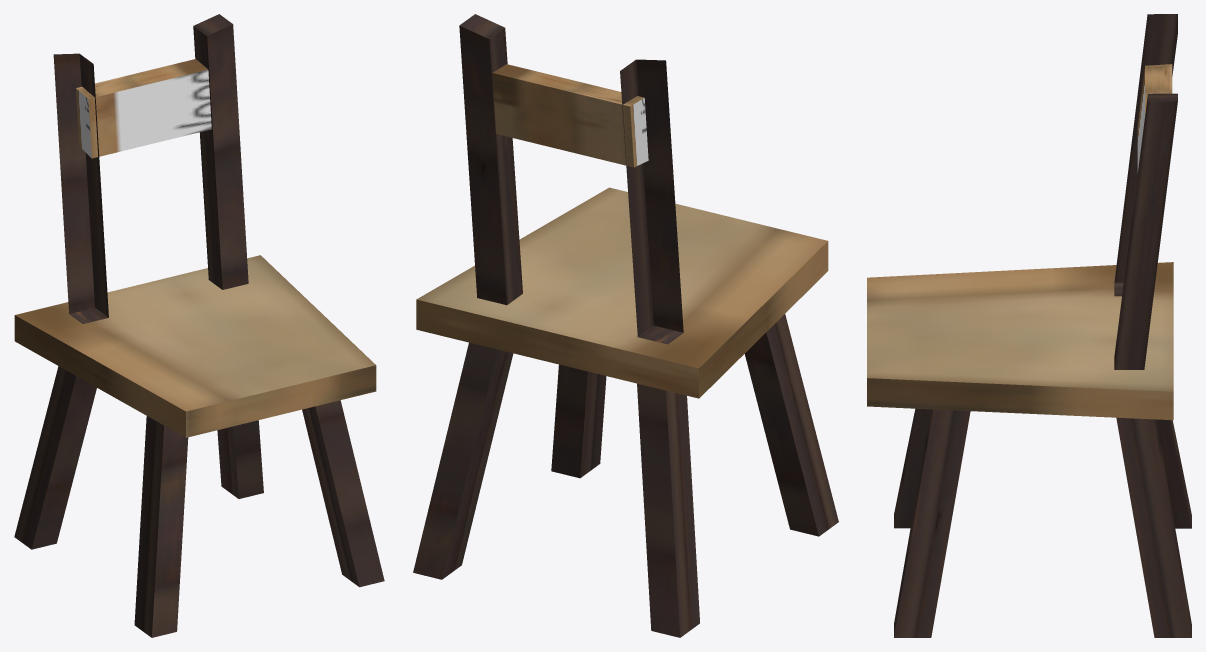
The model's file is Alchemy Assets Browser.fbx_Chair.fbx.
The picture shows the model from 3 angles, left to right: view 1: azimuth 30°, elevation 25°; view 2: azimuth 150°, elevation 25°; view 3: azimuth 270°, elevation 25°; orthographic projection. The views are drawn at different scales.
Parts seen in each view (by area): view 1: Chair; view 2: Chair; view 3: Chair.
Part boxes in pixels (x1,y1,x2,y2): Chair: [14, 14, 384, 637]; Chair: [413, 14, 838, 637]; Chair: [867, 14, 1191, 637].
Bounding box in the file's own units: 49.31 × 91.86 × 52.16.
